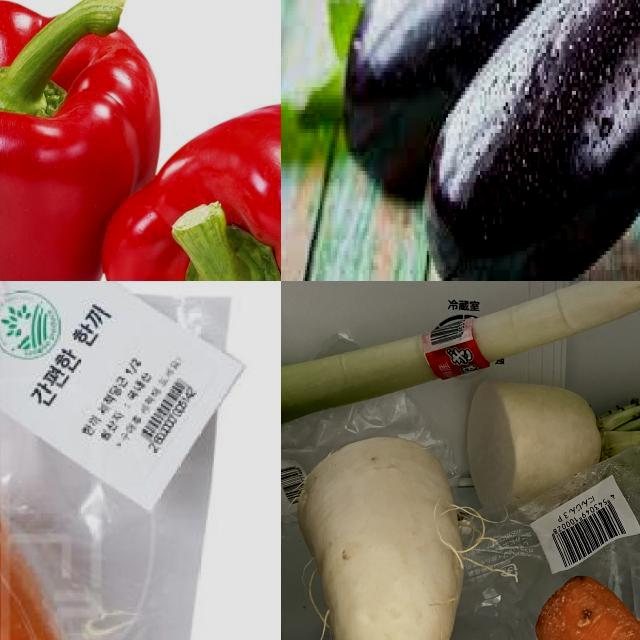bell_pepper: (1, 1, 161, 282), (104, 104, 282, 282)
carrot: (1, 476, 159, 640)
eggplant: (425, 1, 640, 282), (344, 1, 640, 194)
